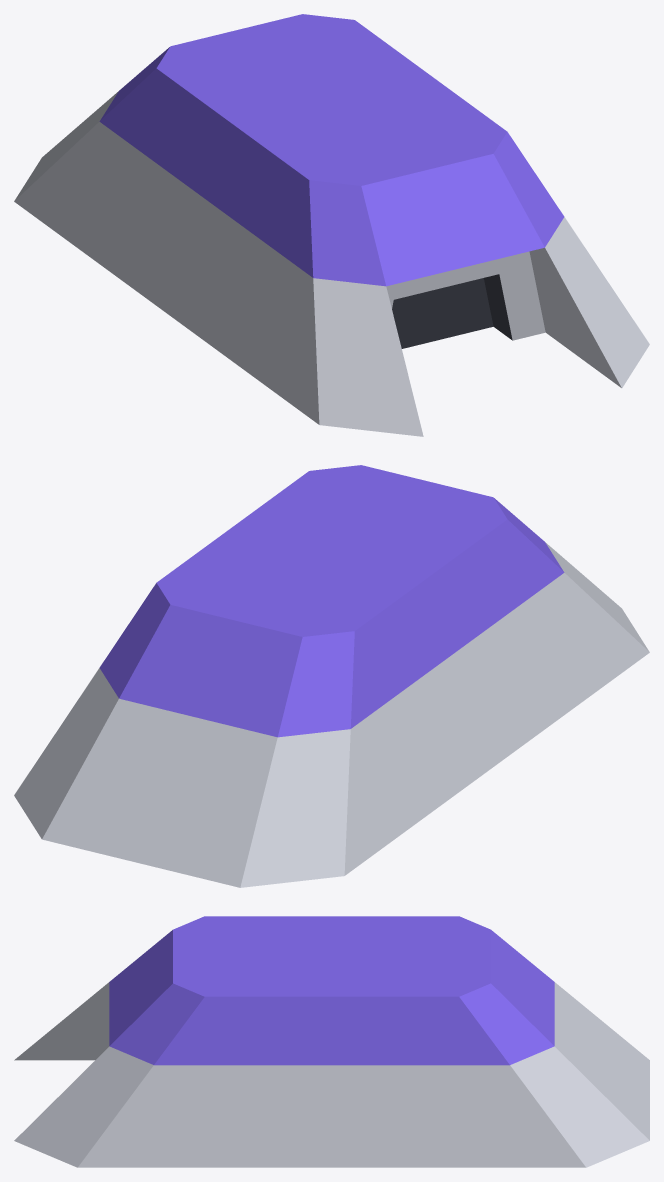
File: Zelt.fbx
3 renders of one model, top to bottom at view 1: azimuth 30°, elevation 25°; view 2: azimuth 150°, elevation 25°; view 3: azimuth 270°, elevation 25°, orthographic. The views are drawn at different scales.
Visible parts, largest first — view 1: hull_topIntake, hull_topFront; view 2: hull_topFront, hull_topIntake; view 3: hull_topFront, hull_topIntake.
Boxes of the visible parts, x1=… form: hull_topIntake: x1=167, y1=76, x2=649, y2=436; hull_topFront: x1=14, y1=14, x2=430, y2=312; hull_topFront: x1=14, y1=527, x2=496, y2=887; hull_topIntake: x1=233, y1=465, x2=649, y2=763; hull_topFront: x1=332, y1=916, x2=649, y2=1167; hull_topIntake: x1=14, y1=916, x2=331, y2=1167.
Bounding box in the file's own units: 10 × 5 × 20.
